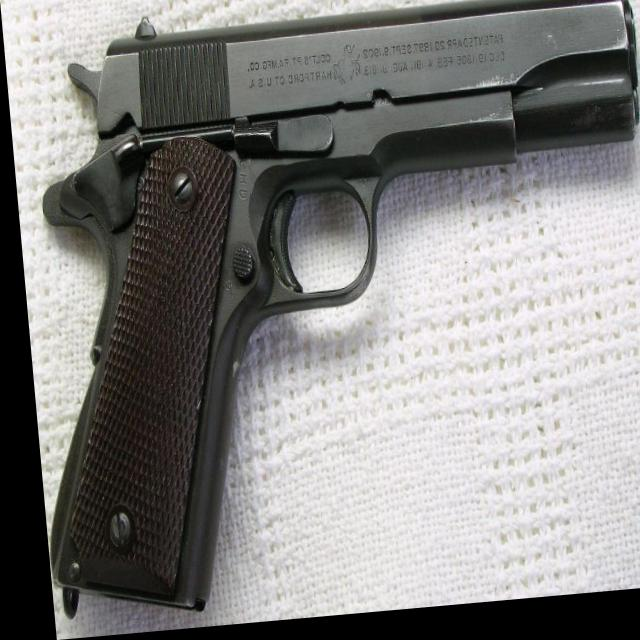handgun: (3, 0, 640, 619)
